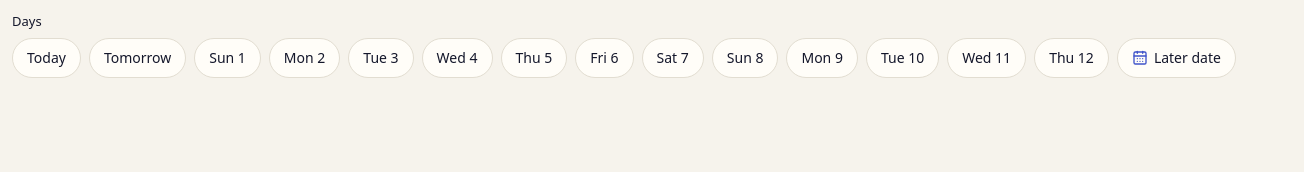
Test: DayPicker › offers the next fourteen Bangkok days as chips and toggles several
The image size is (1304, 172).
Click the button "Sun 1": point(228, 58) [194, 38, 261, 78]
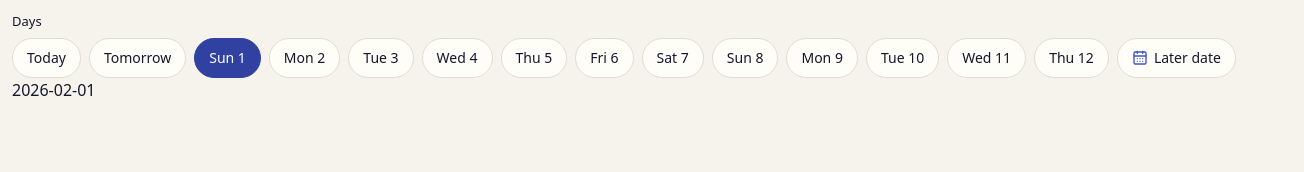
Click the button "Today": point(46, 58) [12, 38, 81, 78]
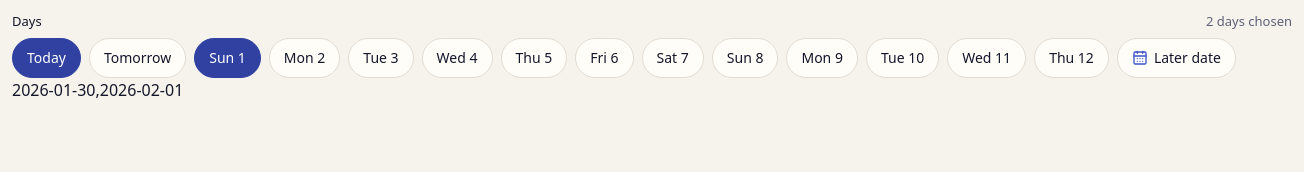
Click the button "Tomorrow": point(138, 58) [89, 38, 186, 78]
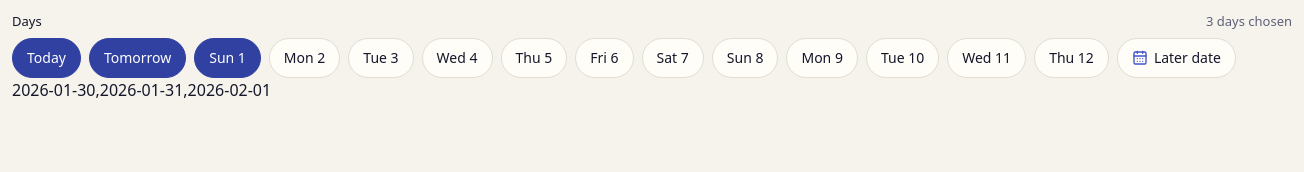
Click the button "Today": point(46, 58) [12, 38, 81, 78]
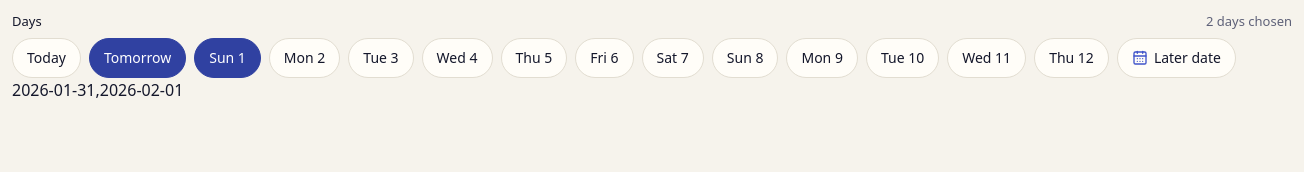
Result: the text "2026-01-31,2026-02-01" is shown at [12, 78, 183, 100]
Result: the text "2 days chosen" is shown at [1206, 12, 1292, 32]
